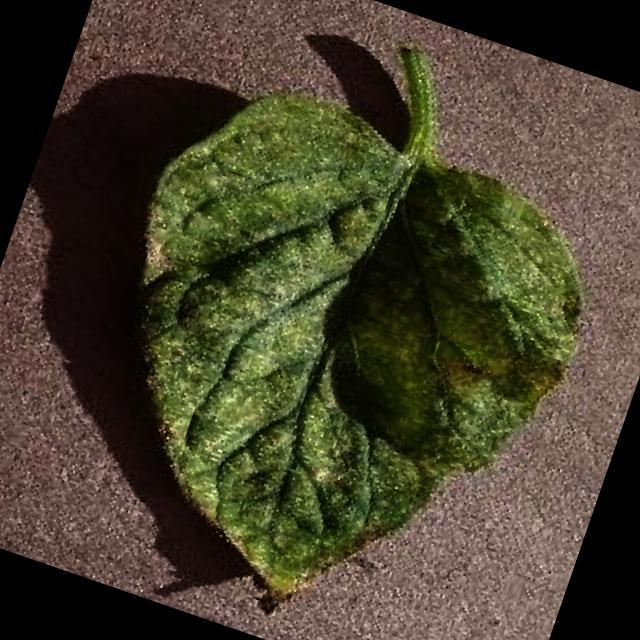Tomato spider mites leaf: (42, 57, 626, 640)
